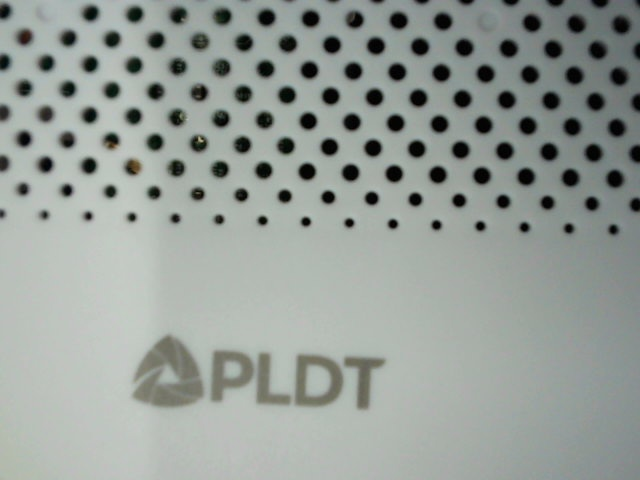BH_PLDT: (108, 318, 400, 427)
